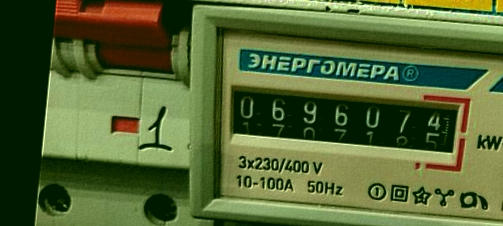0: (237, 93, 258, 120), (363, 103, 383, 130)
4: (425, 108, 444, 131)
5: (423, 131, 441, 152)
6: (331, 100, 352, 128), (269, 95, 289, 122)
7: (395, 107, 413, 134)
9: (300, 98, 319, 125)
screen: (215, 72, 475, 176)
